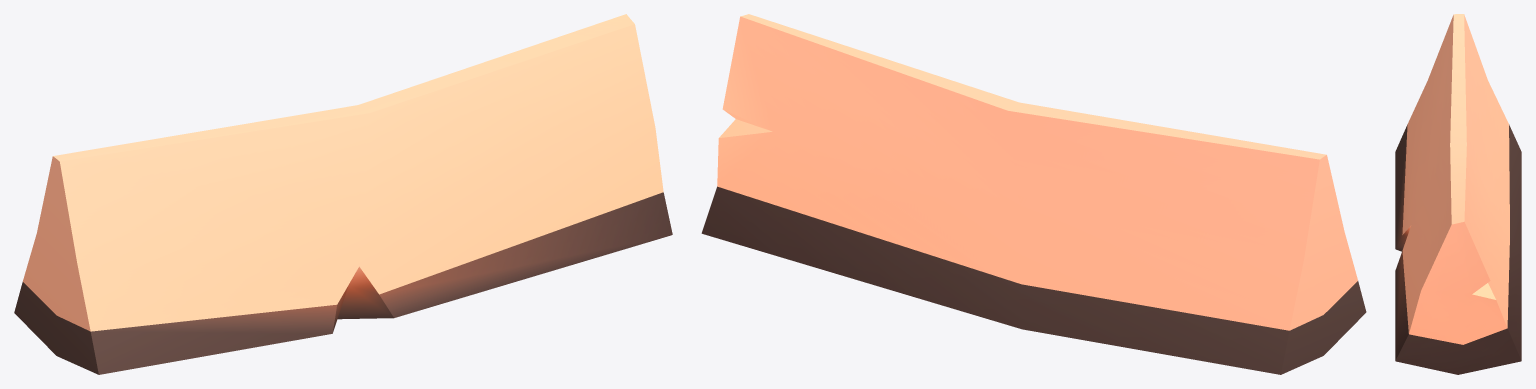
Rendered from log_003.glb.
3 views of the same model, side by side, from view 1: azimuth 30°, elevation 25°; view 2: azimuth 150°, elevation 25°; view 3: azimuth 270°, elevation 25° (orthographic). The views are drawn at different scales.
Visible parts, largest first — view 1: log_003; view 2: log_003; view 3: log_003.
Boxes of the visible parts, x1,y1,x2,y2 form: log_003: (14,14,672,374); log_003: (701,14,1366,374); log_003: (1395,14,1521,374).
Bounding box in the file's own units: 1.23 × 0.4417 × 0.3142.
1 material, 1 textured.
